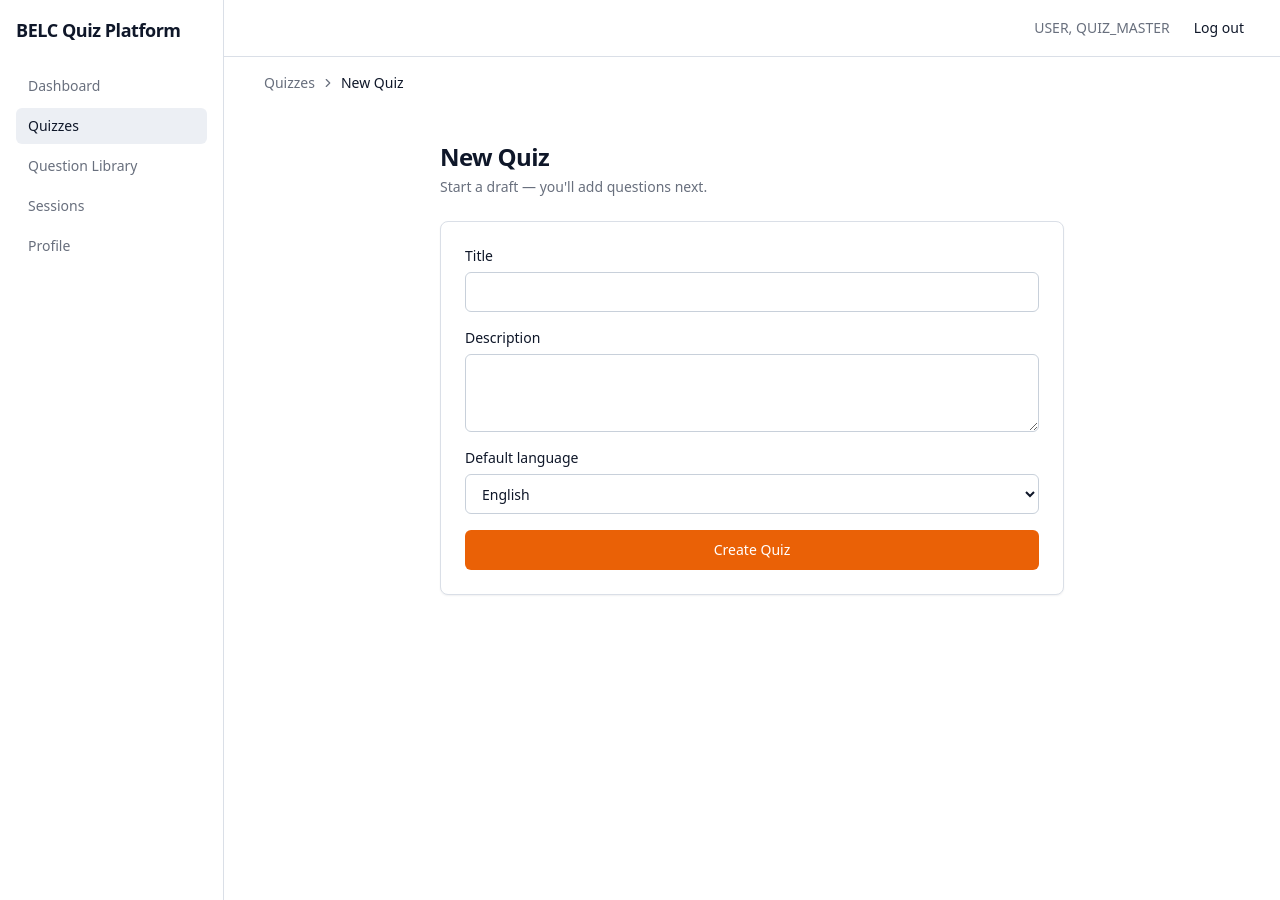
Test: CreateQuizPage › requires a title before submitting
Click the button "Create Quiz": (752, 550) [465, 530, 1039, 570]
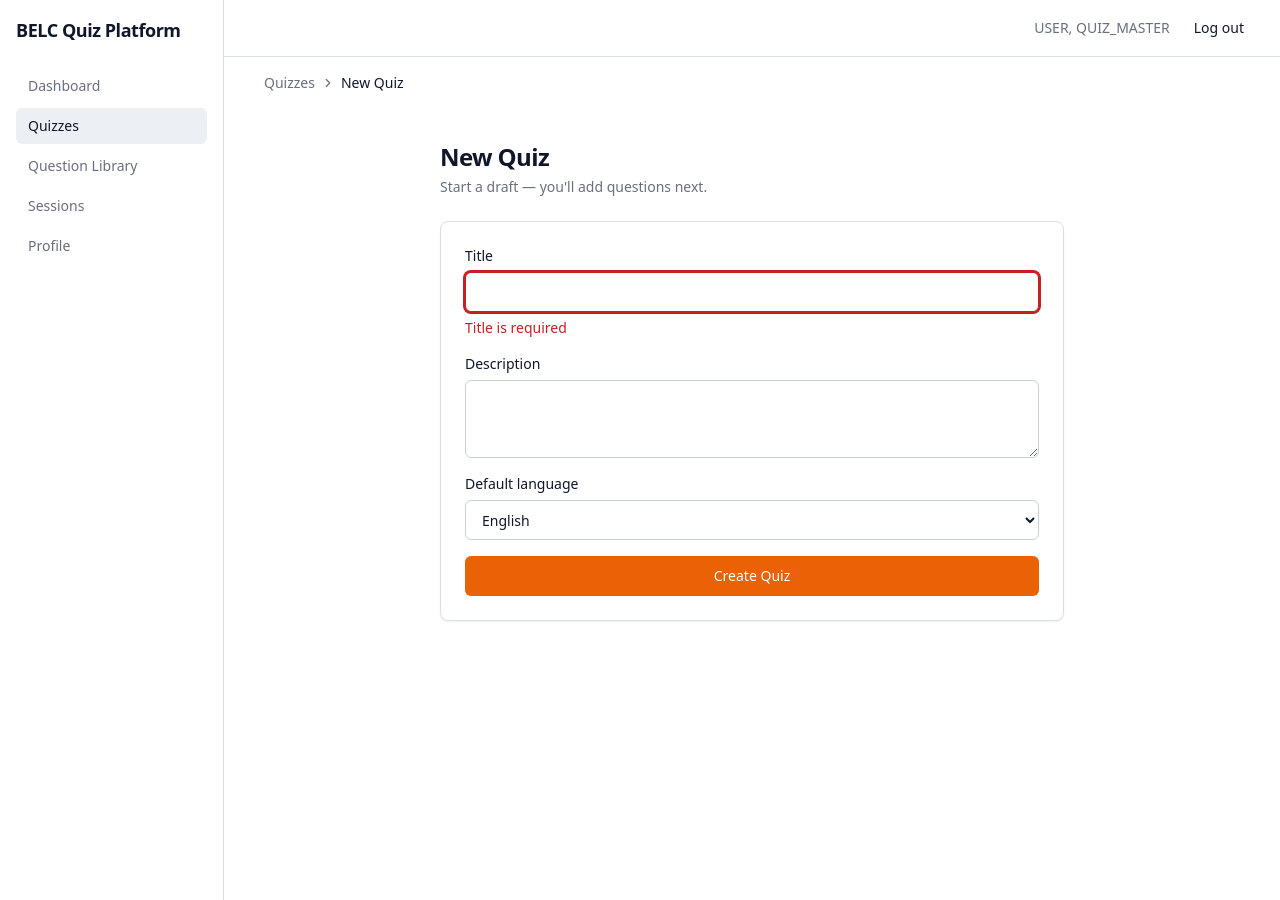
expect the text "Title is required" is shown: met, box [465, 318, 567, 337]
